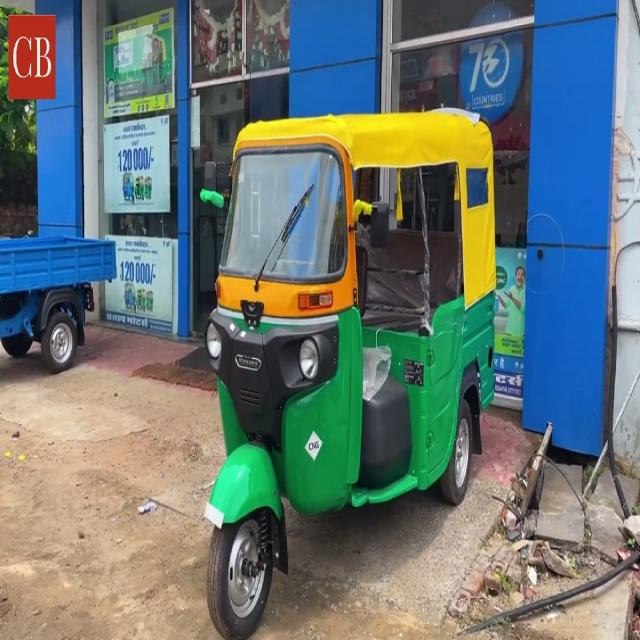autorickshaw: (205, 109, 496, 637)
truck: (0, 238, 116, 370)
